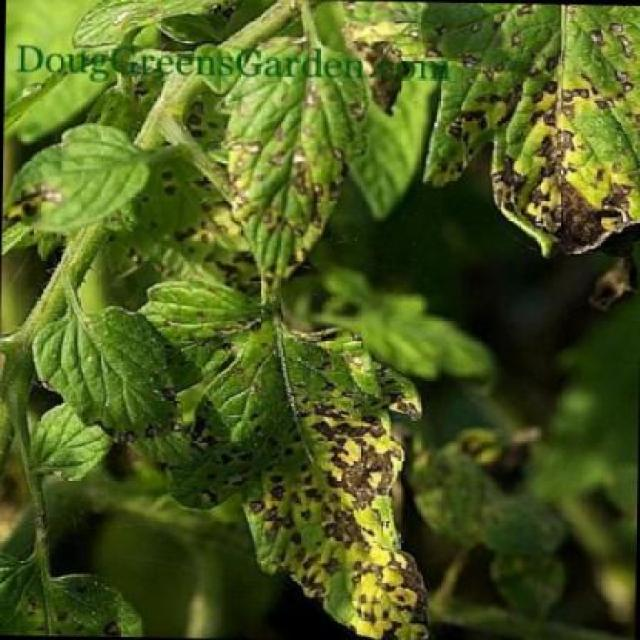Septoria leaf spot: (206, 308, 446, 640), (428, 2, 640, 257), (219, 40, 370, 311)
